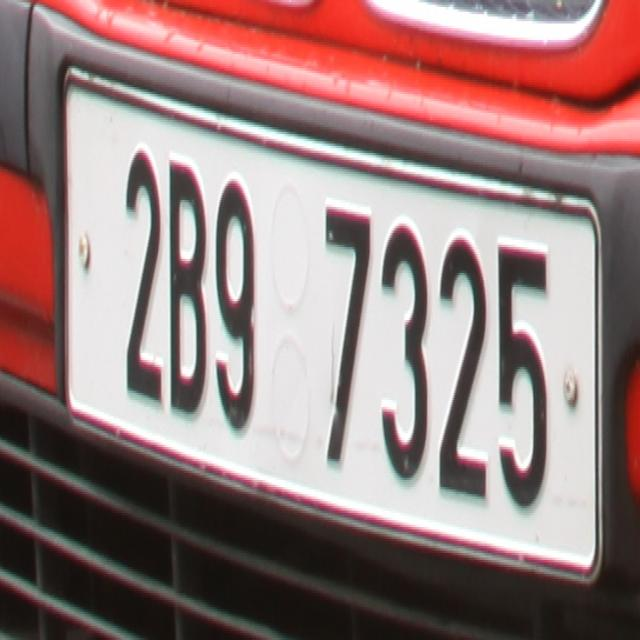2: (438, 233, 487, 503), (121, 146, 165, 402)
3: (381, 214, 429, 482)
5: (496, 240, 550, 508)
7: (323, 202, 370, 476)
9: (216, 174, 258, 442)
B: (168, 155, 208, 421)
